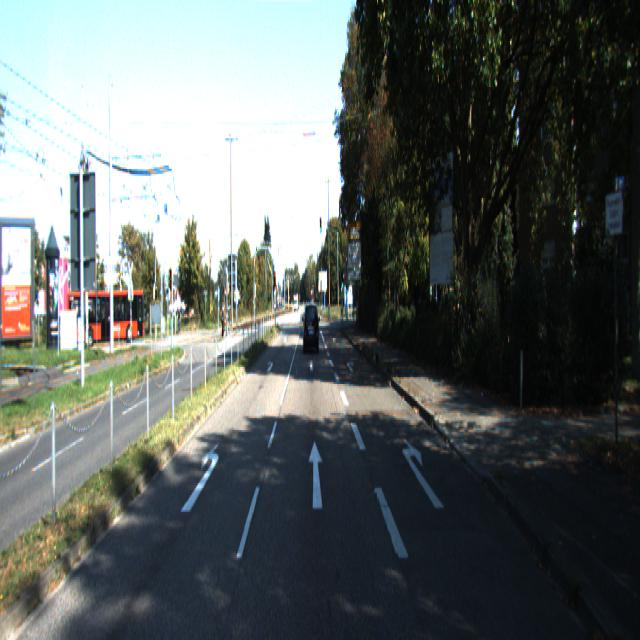Car: (68, 292, 146, 350), (304, 302, 320, 355)
